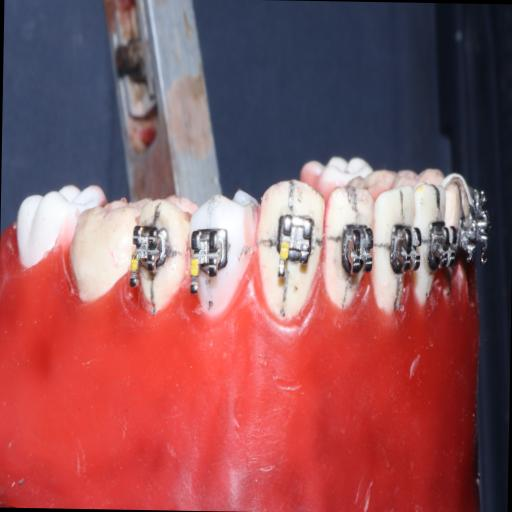incorrect_brace: (270, 209, 319, 279)
